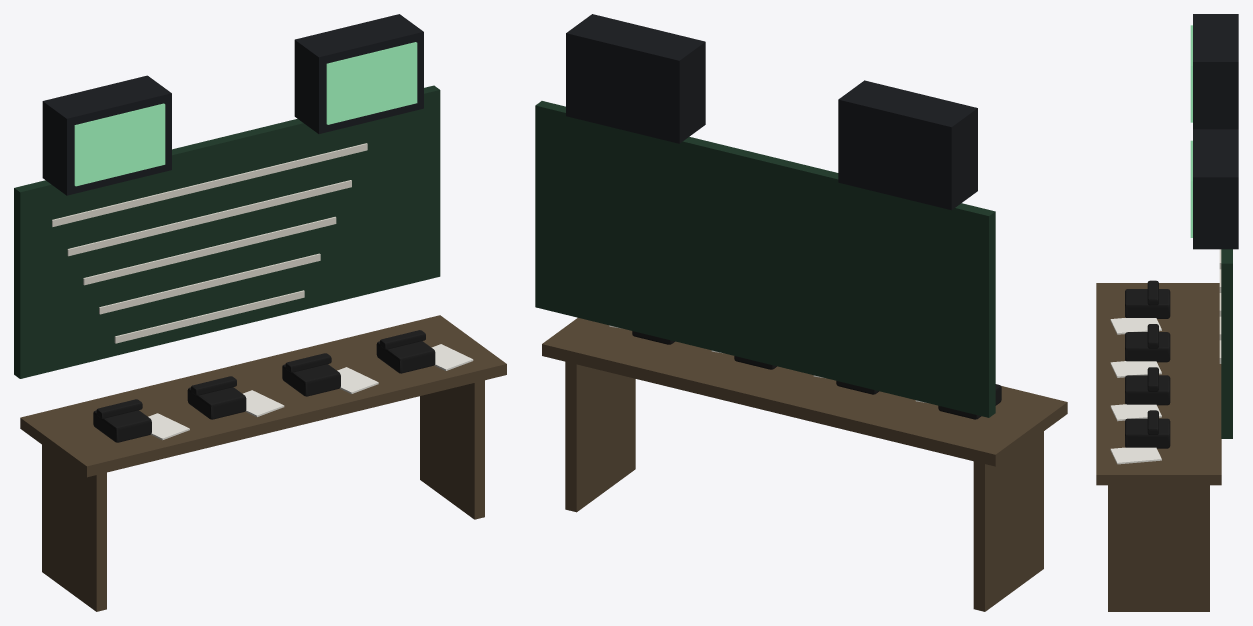
Rendered from phone-bank.glb.
3 views of the same model, side by side, from view 1: azimuth 30°, elevation 25°; view 2: azimuth 150°, elevation 25°; view 3: azimuth 270°, elevation 25° (orthographic). The views are drawn at different scales.
Parts seen in each view (by area): view 1: part-chalkboard, part-trestle, part-tv-frame, part-tv-race, part-chalk, part-phone, part-paper; view 2: part-chalkboard, part-trestle, part-tv-frame, part-phone; view 3: part-trestle, part-tv-frame, part-phone, part-paper, part-chalkboard, part-tv-race, part-chalk.
Boxes of the visible parts, x1,y1,x2,y2 form: part-chalkboard: [14, 85, 440, 378]; part-trestle: [20, 315, 506, 611]; part-tv-frame: [42, 14, 423, 195]; part-tv-race: [74, 42, 417, 186]; part-chalk: [52, 143, 367, 343]; part-phone: [93, 330, 435, 442]; part-paper: [148, 344, 473, 440]; part-chalkboard: [535, 101, 995, 417]; part-trestle: [542, 318, 1067, 611]; part-tv-frame: [566, 14, 977, 210]; part-phone: [632, 331, 1001, 419]; part-trestle: [1096, 283, 1221, 611]; part-tv-frame: [1193, 14, 1238, 249]; part-phone: [1125, 280, 1170, 448]; part-paper: [1110, 318, 1161, 464]; part-chalkboard: [1221, 249, 1232, 438]; part-tv-race: [1190, 25, 1192, 237]; part-chalk: [1219, 249, 1221, 363].
Size of the model in its own units: 80 by 83 by 25.
